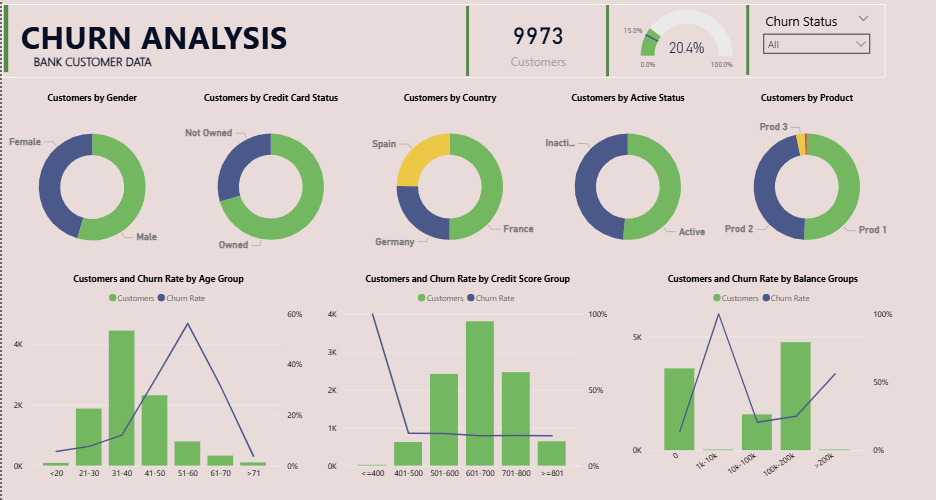

The page's visual inventory and layout, read from the dashboard file:
{"tool":"powerbi","page":{"name":"Page 1","canvas":[1280,720],"ordinal":0},"visuals":[{"type":"shape","box":[0,42.9,1200,100],"z":500},{"type":"card","fields":{"Values":["Customer Data.NO of Customers"]},"box":[639.7,49.2,177.8,92.1],"z":1000},{"type":"donutChart","fields":{"Category":["Customer Data.Gender"],"Y":["Customer Data.NO of Customers"]},"box":[0,162,245,245],"z":2000},{"type":"donutChart","fields":{"Y":["Customer Data.NO of Customers"],"Category":["Customer Data.Active Status"]},"box":[728.7,162.3,244.4,244.4],"z":3000},{"type":"donutChart","fields":{"Y":["Customer Data.NO of Customers"],"Category":["Customer Data.Credit Card Status"]},"box":[243.3,162.3,244.4,244.4],"z":4000},{"type":"donutChart","fields":{"Y":["Customer Data.NO of Customers"],"Category":["Customer Data.Country"]},"box":[486,162.3,244.4,244.4],"z":5000},{"type":"donutChart","fields":{"Y":["Customer Data.NO of Customers"],"Category":["Customer Data.Product"]},"box":[971.4,162.3,244.4,244.4],"z":6000},{"type":"lineClusteredColumnComboChart","fields":{"Category":["Age Group.Age Group"],"Y":["Customer Data.Customers"],"Y2":["Customer Data.Churn Rate"]},"box":[11.1,407.9,403.2,292.1],"z":7000},{"type":"lineClusteredColumnComboChart","fields":{"Y":["Customer Data.Customers"],"Y2":["Customer Data.Churn Rate"],"Category":["Credit Score Group.Credit Score Group"]},"box":[438.1,407.9,390.5,292.1],"z":8000},{"type":"lineClusteredColumnComboChart","fields":{"Y":["Customer Data.Customers"],"Y2":["Customer Data.Churn Rate"],"Category":["Acct Balance Group.Balance Groups"]},"box":[852.4,407.9,363.5,292.1],"z":9000},{"type":"slicer","fields":{"Values":["Customer Data.Churn Status"]},"box":[1023.8,49.2,165.1,93.7],"z":10000},{"type":"gauge","fields":{"Y":["Customer Data.Churn Rate"],"MinValue":["Min(Customer Data.Min Churn Rate)"],"MaxValue":["Max(Customer Data.Max Churn Rate )"],"TargetValue":["Max(Customer Data.Target Churn Rate)"]},"box":[819,46,195.2,93.7],"z":11000},{"type":"textbox","box":[38.1,106.3,300,41.3],"z":11002},{"type":"textbox","box":[20.6,52.4,393.7,84.1],"z":11003},{"type":"shape","box":[612.7,46,39.7,95.2],"z":11004},{"type":"shape","box":[798.4,44.4,47.6,96.8],"z":11005},{"type":"shape","box":[992.1,44.2,42.9,95.2],"z":11006},{"type":"shape","box":[0,44.4,11.1,92.1],"z":11007}]}

Visuals, with their boxes in screenshot pixels (x1, y1, x2, y2):
shape: (98, 27, 919, 95)
card - Customer Data.NO of Customers: (535, 31, 657, 94)
donutChart - Customer Data.Gender x Customer Data.NO of Customers: (98, 108, 265, 276)
donutChart - Customer Data.NO of Customers x Customer Data.Active Status: (596, 109, 764, 276)
donutChart - Customer Data.NO of Customers x Customer Data.Credit Card Status: (264, 109, 431, 276)
donutChart - Customer Data.NO of Customers x Customer Data.Country: (430, 109, 597, 276)
donutChart - Customer Data.NO of Customers x Customer Data.Product: (762, 109, 930, 276)
lineClusteredColumnComboChart - Age Group.Age Group x Customer Data.Customers: (105, 277, 381, 477)
lineClusteredColumnComboChart - Customer Data.Customers x Customer Data.Churn Rate: (397, 277, 665, 477)
lineClusteredColumnComboChart - Customer Data.Customers x Customer Data.Churn Rate: (681, 277, 930, 477)
slicer - Customer Data.Churn Status: (798, 31, 911, 95)
gauge - Customer Data.Churn Rate x Min(Customer Data.Min Churn Rate): (658, 29, 792, 93)
textbox: (124, 70, 329, 99)
textbox: (112, 33, 381, 91)
shape: (517, 29, 544, 94)
shape: (644, 28, 677, 94)
shape: (777, 28, 806, 93)
shape: (98, 28, 105, 91)
